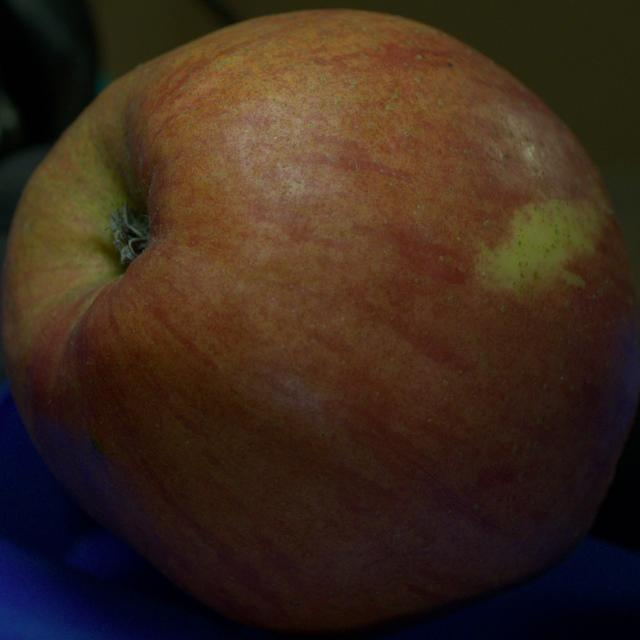apple: (2, 9, 639, 636)
